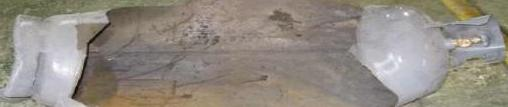cylinder: (1, 0, 508, 107)
